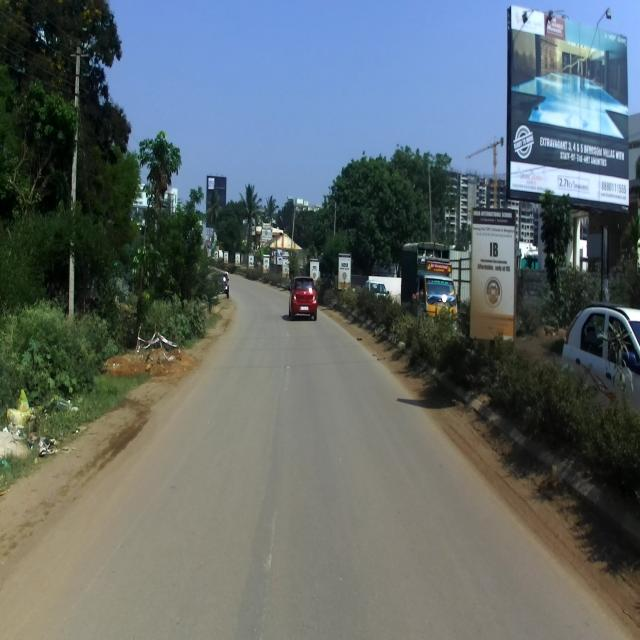Car_Maruti-Suzuki: (288, 275, 318, 321)
